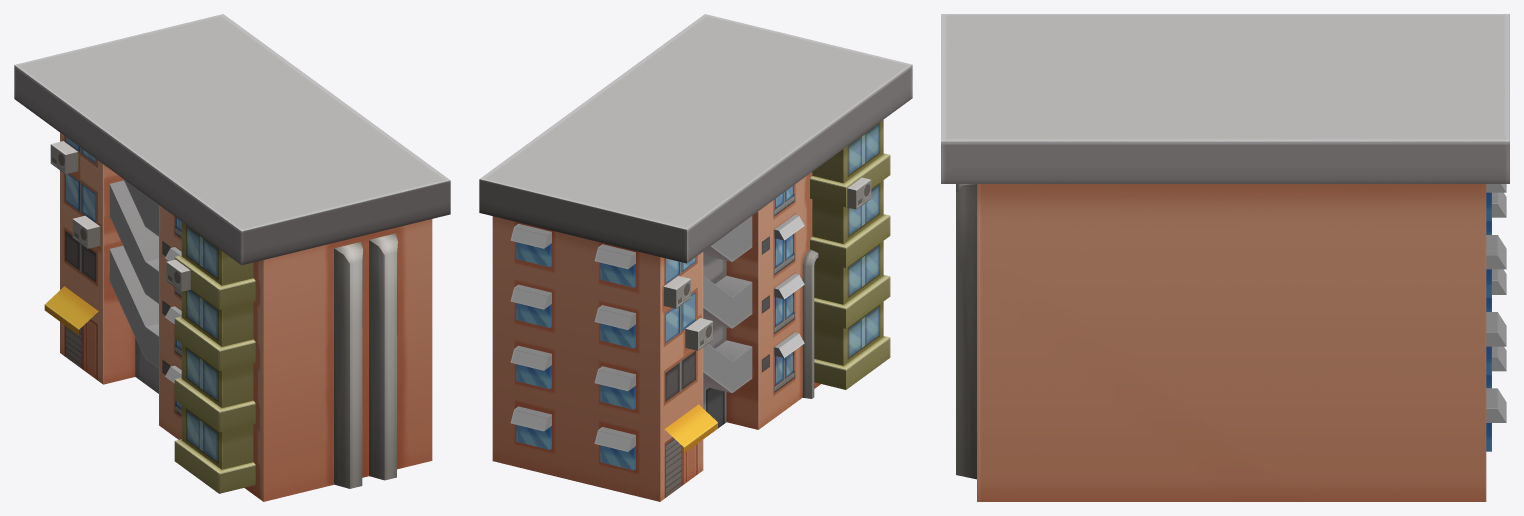
File: xiaoqu01.FBX
3 views of the same model, side by side, from view 1: azimuth 30°, elevation 25°; view 2: azimuth 150°, elevation 25°; view 3: azimuth 270°, elevation 25° (orthographic). The views are drawn at different scales.
Visible parts, largest first — view 1: xiaoqu01; view 2: xiaoqu01; view 3: xiaoqu01.
Part boxes in pixels (<box>): xiaoqu01: <box>14,14,450,501</box>; xiaoqu01: <box>479,14,912,501</box>; xiaoqu01: <box>941,14,1509,501</box>.
Bounding box in the file's own units: 705 × 894 × 1270.
1 material, 1 textured.
